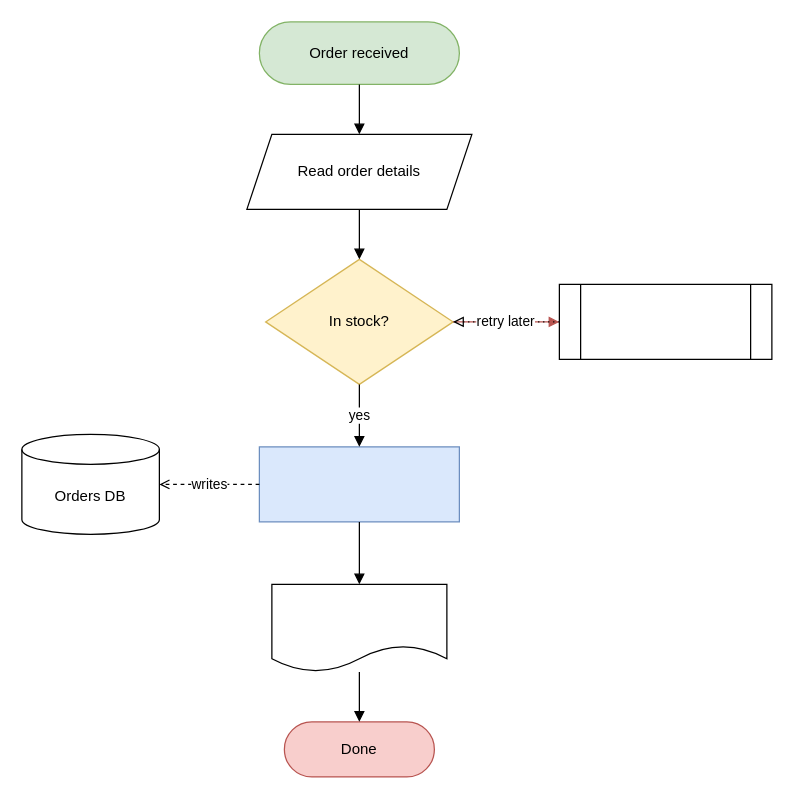
Some shapes in this 794 by 799 pixel diagram are drawn without their labels. Here are the shapes that lost their labels. From the top down, the centre of each, then its label:
At pixel 665 321: "Create back-order".
At pixel 358 484: "Reserve items".
At pixel 359 627: "Invoice".
